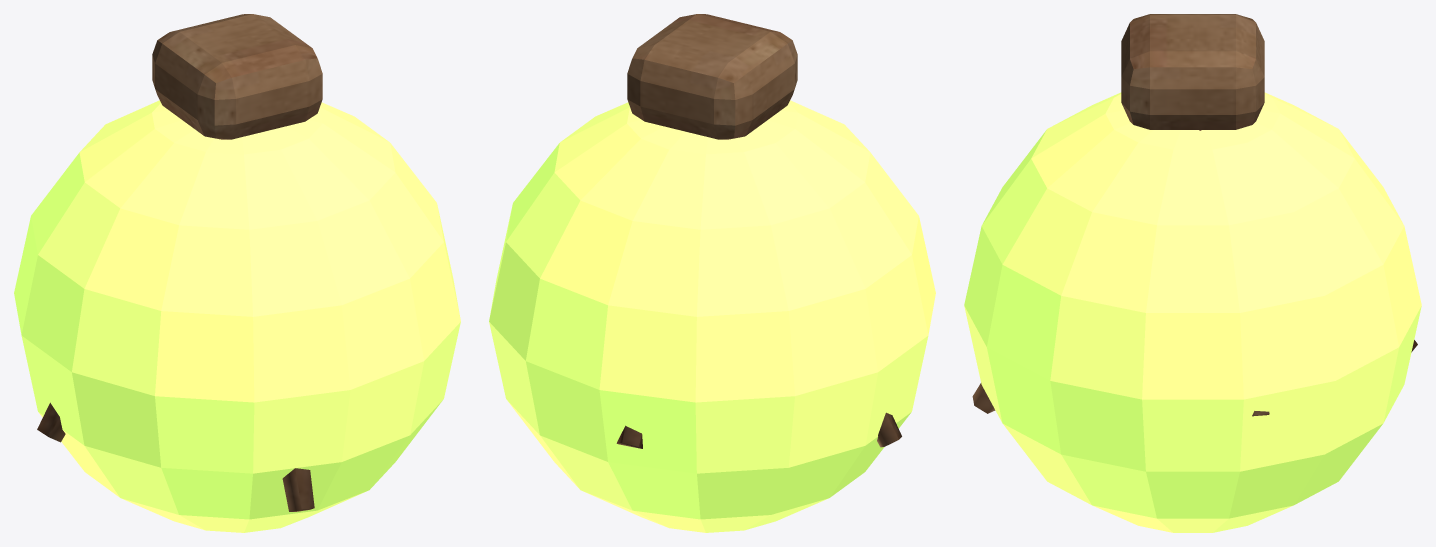
The model's file is glow_gland.glb.
The picture shows the model from 3 angles, left to right: view 1: azimuth 30°, elevation 25°; view 2: azimuth 150°, elevation 25°; view 3: azimuth 270°, elevation 25°; orthographic projection.
Visible parts, largest first — view 1: model; view 2: model; view 3: model.
Boxes of the visible parts, x1,y1,x2,y2 form: model: [14, 14, 460, 532]; model: [489, 14, 935, 532]; model: [964, 14, 1421, 532].
Bounding box in the file's own units: 0.1571 × 0.185 × 0.16.
2 materials, 1 textured.
